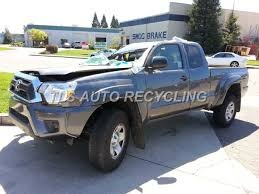Broken-glass: (80, 44, 150, 69)
Dent: (15, 65, 126, 85)
